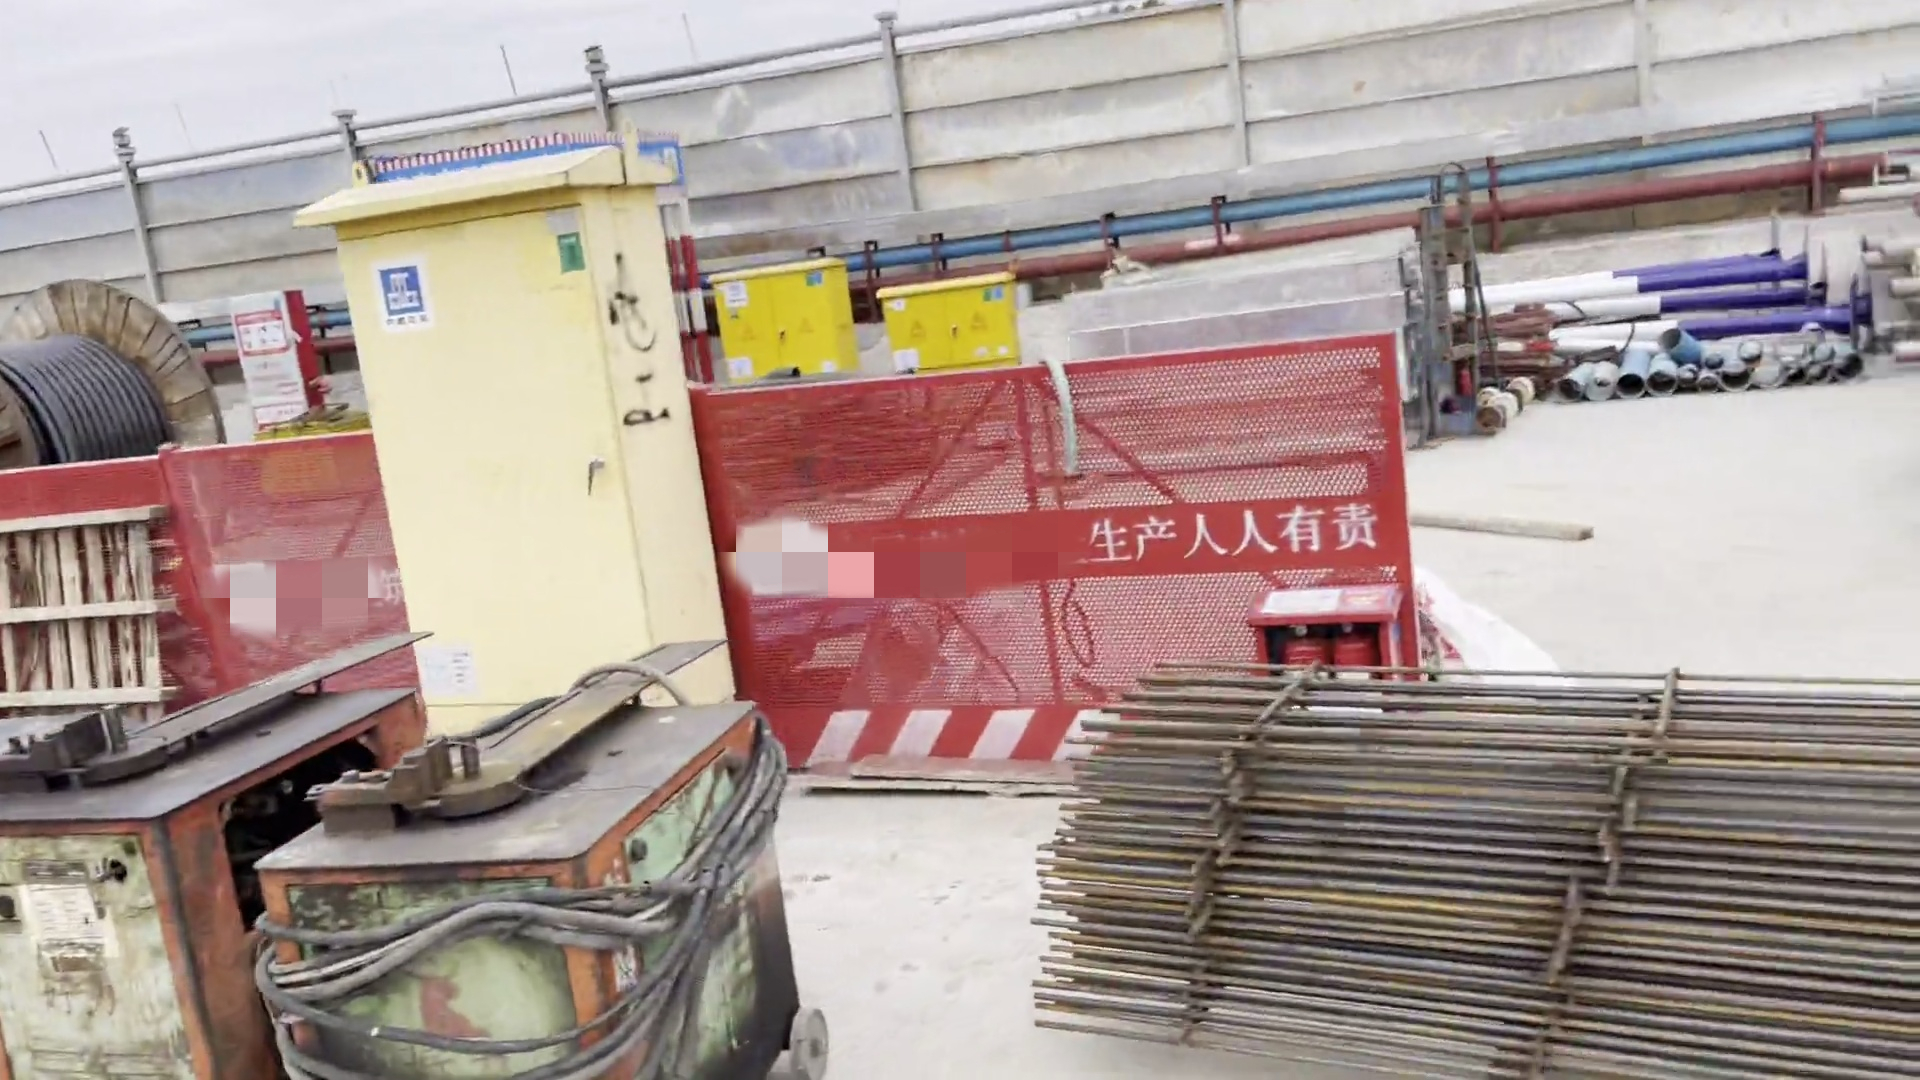cutter: (243, 599, 856, 1080), (1, 601, 426, 1080)
ebox: (269, 142, 771, 723), (699, 258, 1048, 386)
fence: (679, 326, 1451, 732), (1, 411, 419, 732)
rebar: (1033, 626, 1920, 1073)
slogan: (334, 137, 717, 199)
